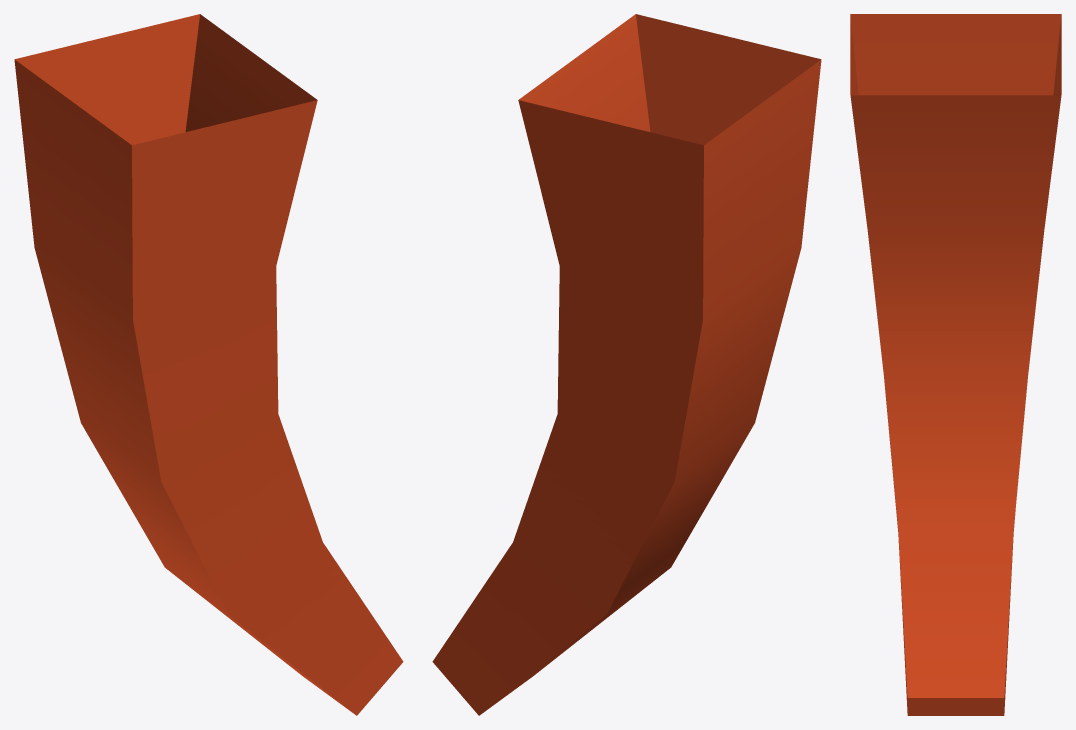
Rendered from AR6_Trigger.fbx.
The picture shows the model from 3 angles, left to right: view 1: azimuth 30°, elevation 25°; view 2: azimuth 150°, elevation 25°; view 3: azimuth 270°, elevation 25°; orthographic projection. The views are drawn at different scales.
Parts seen in each view (by area): view 1: AR6_Trigger; view 2: AR6_Trigger; view 3: AR6_Trigger.
Part boxes in pixels (x1=…): AR6_Trigger: x1=14, y1=14, x2=403, y2=715; AR6_Trigger: x1=432, y1=14, x2=821, y2=715; AR6_Trigger: x1=850, y1=14, x2=1061, y2=715.
Size of the model in its own units: 1.88 by 3.89 by 1.26.
